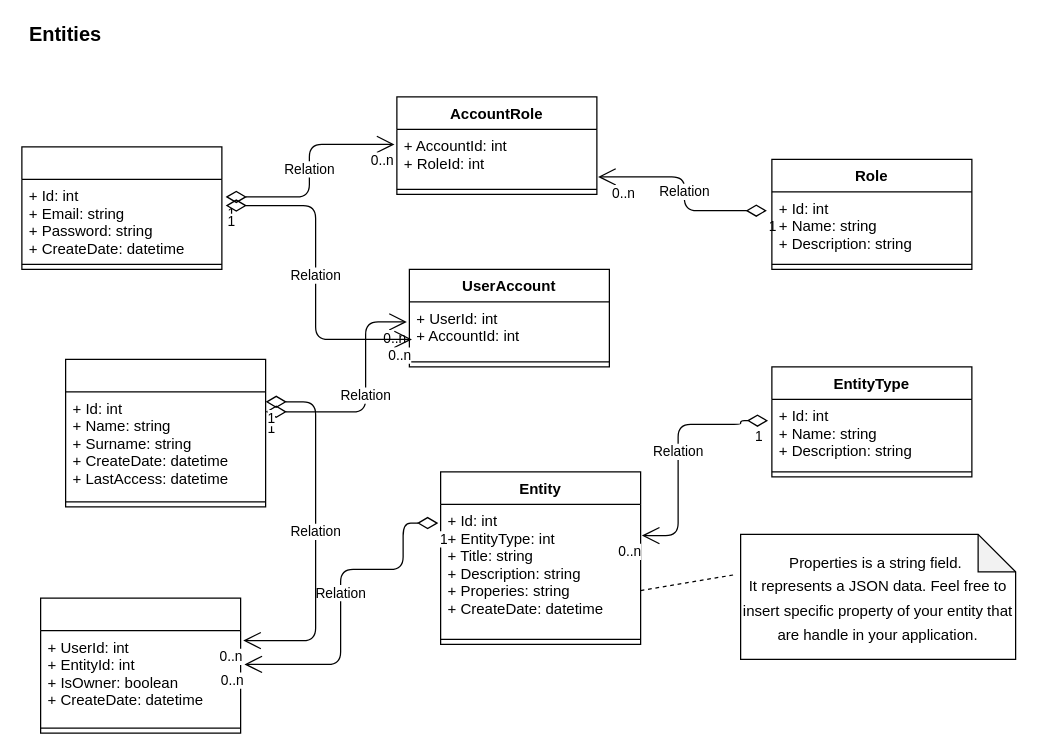
Image size: 1038x755. Some labels were removed from this diagram. Each missing label, with the box of its shape:
Account: (21, 146, 222, 269)
UserEntity: (39, 597, 241, 733)
Users: (64, 358, 266, 507)
